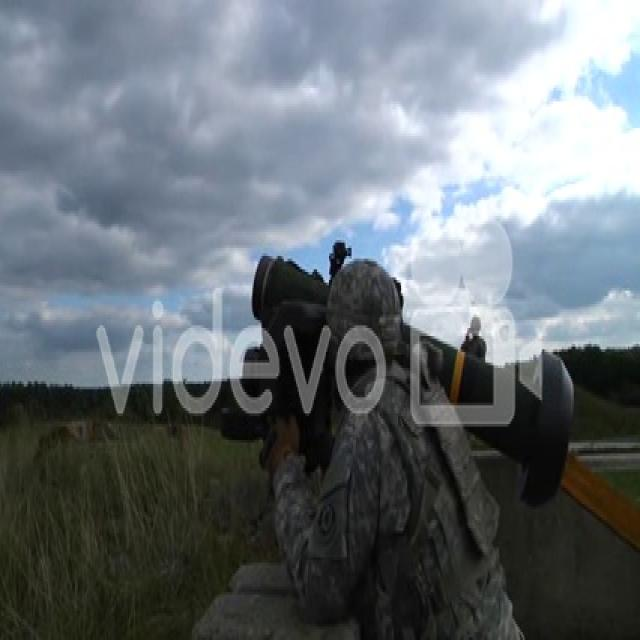bazooka: (249, 248, 584, 515)
